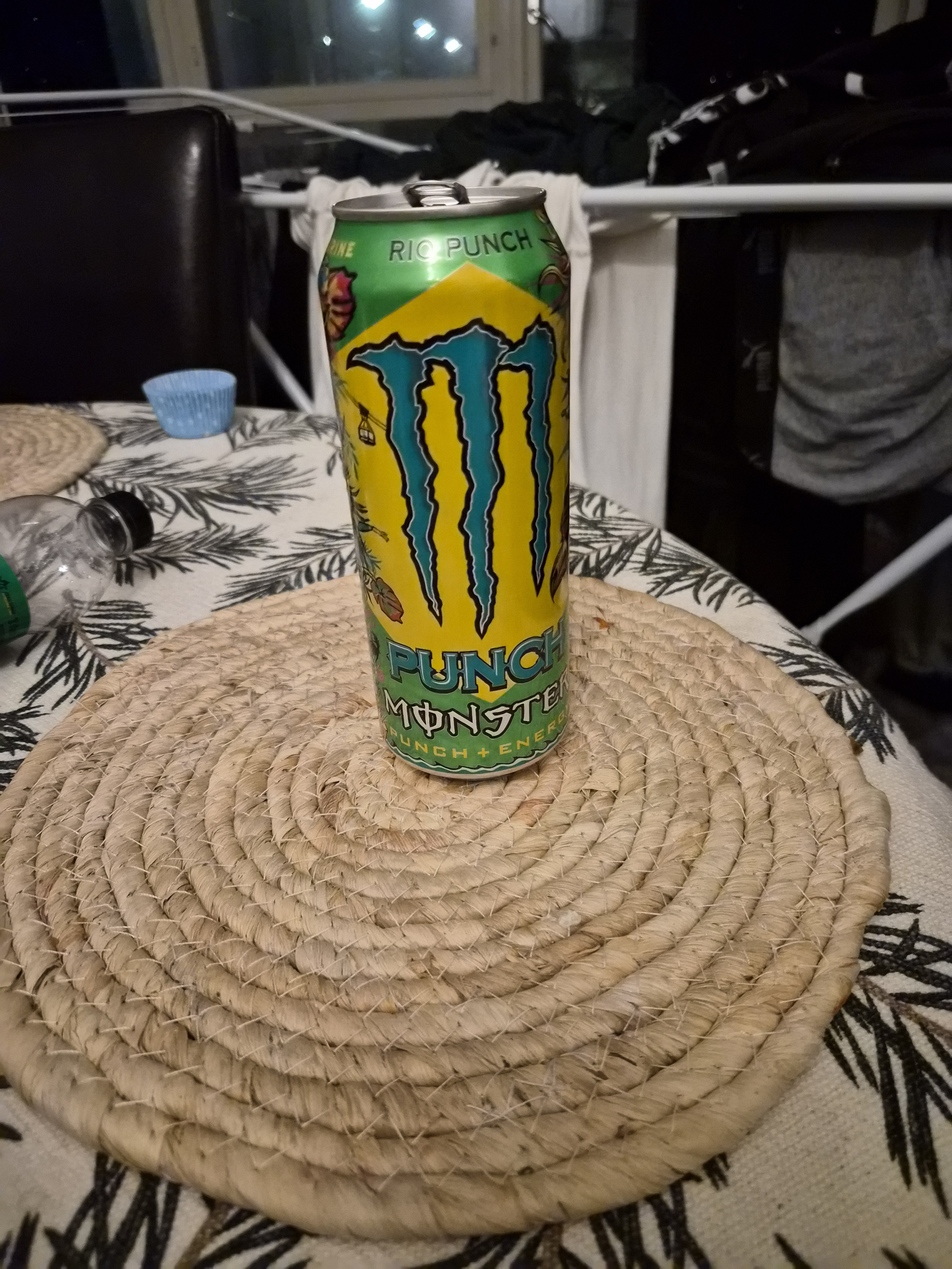Pantburk: (311, 176, 577, 784)
